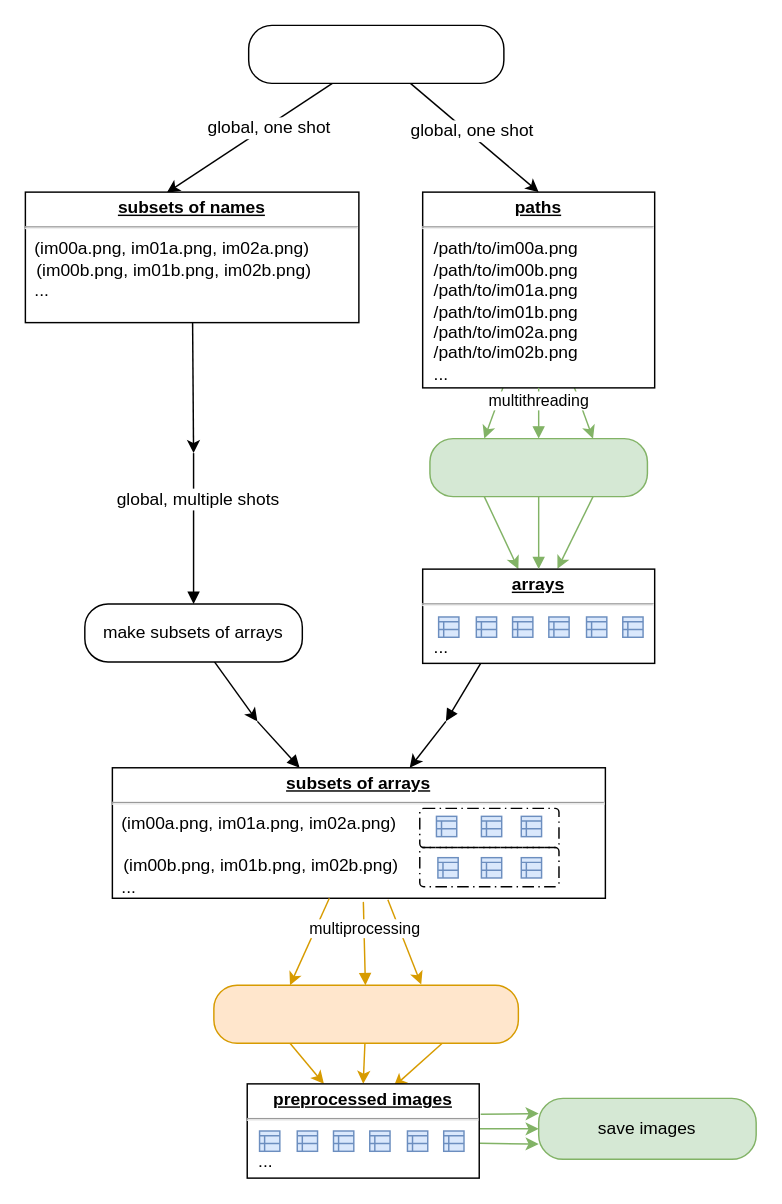
Image size: 782x1204. Some labels were removed from this diagram. Here are the shapes that lost their labels. From the top down, the centre of each, then its label:
At (375,53): "fill (subsets of names, paths)".
At (537,467): "read array".
At (365,1013): "preprocess a subset of arrays".
